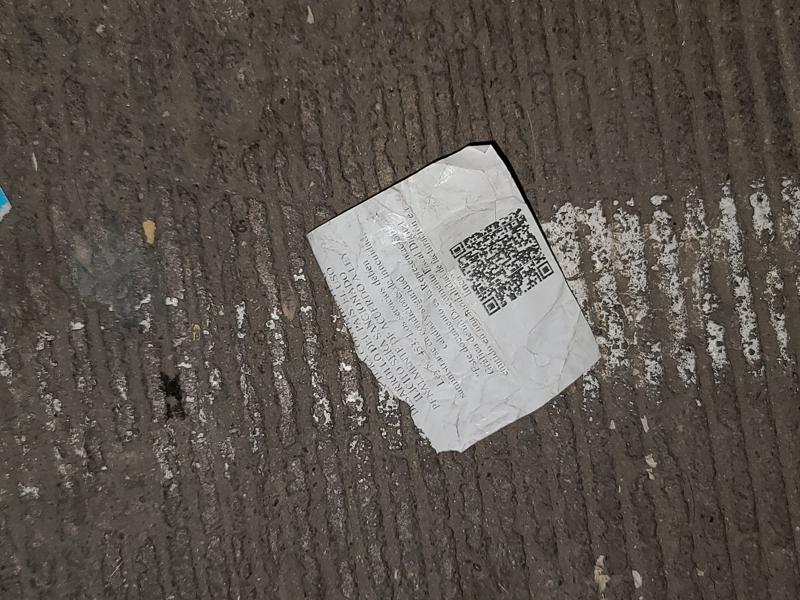papel: (304, 143, 601, 454)
